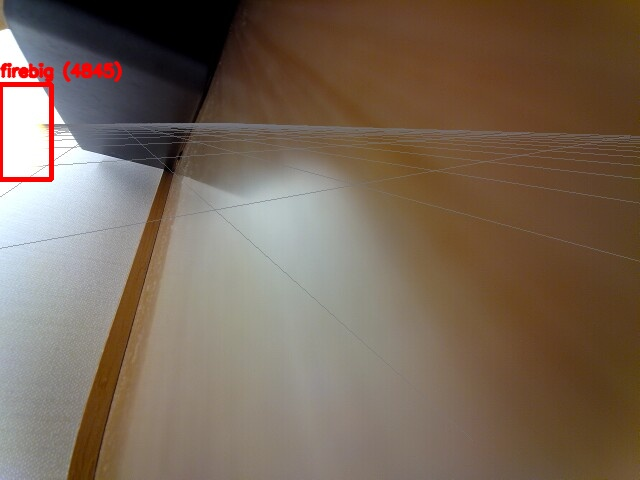firebig: (0, 84, 51, 179)
